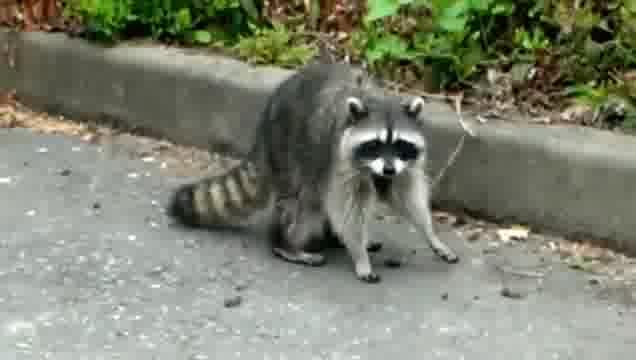raccoon: (166, 62, 464, 289)
